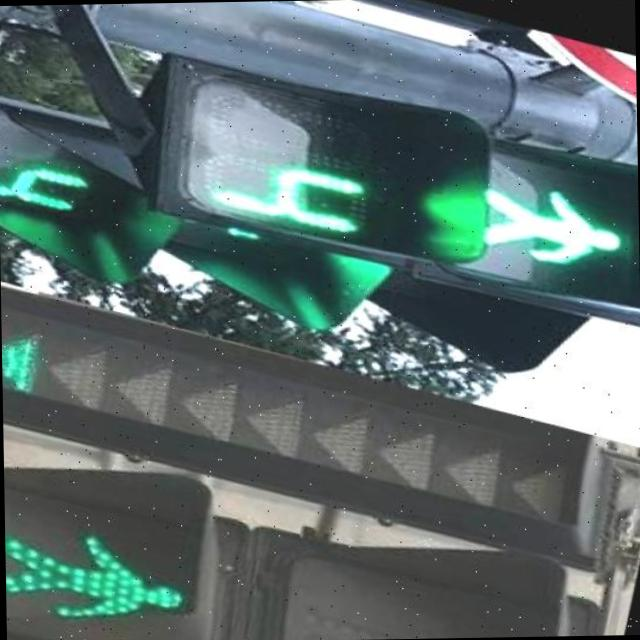green_light: (180, 68, 640, 324), (4, 489, 198, 640), (0, 121, 109, 233)
